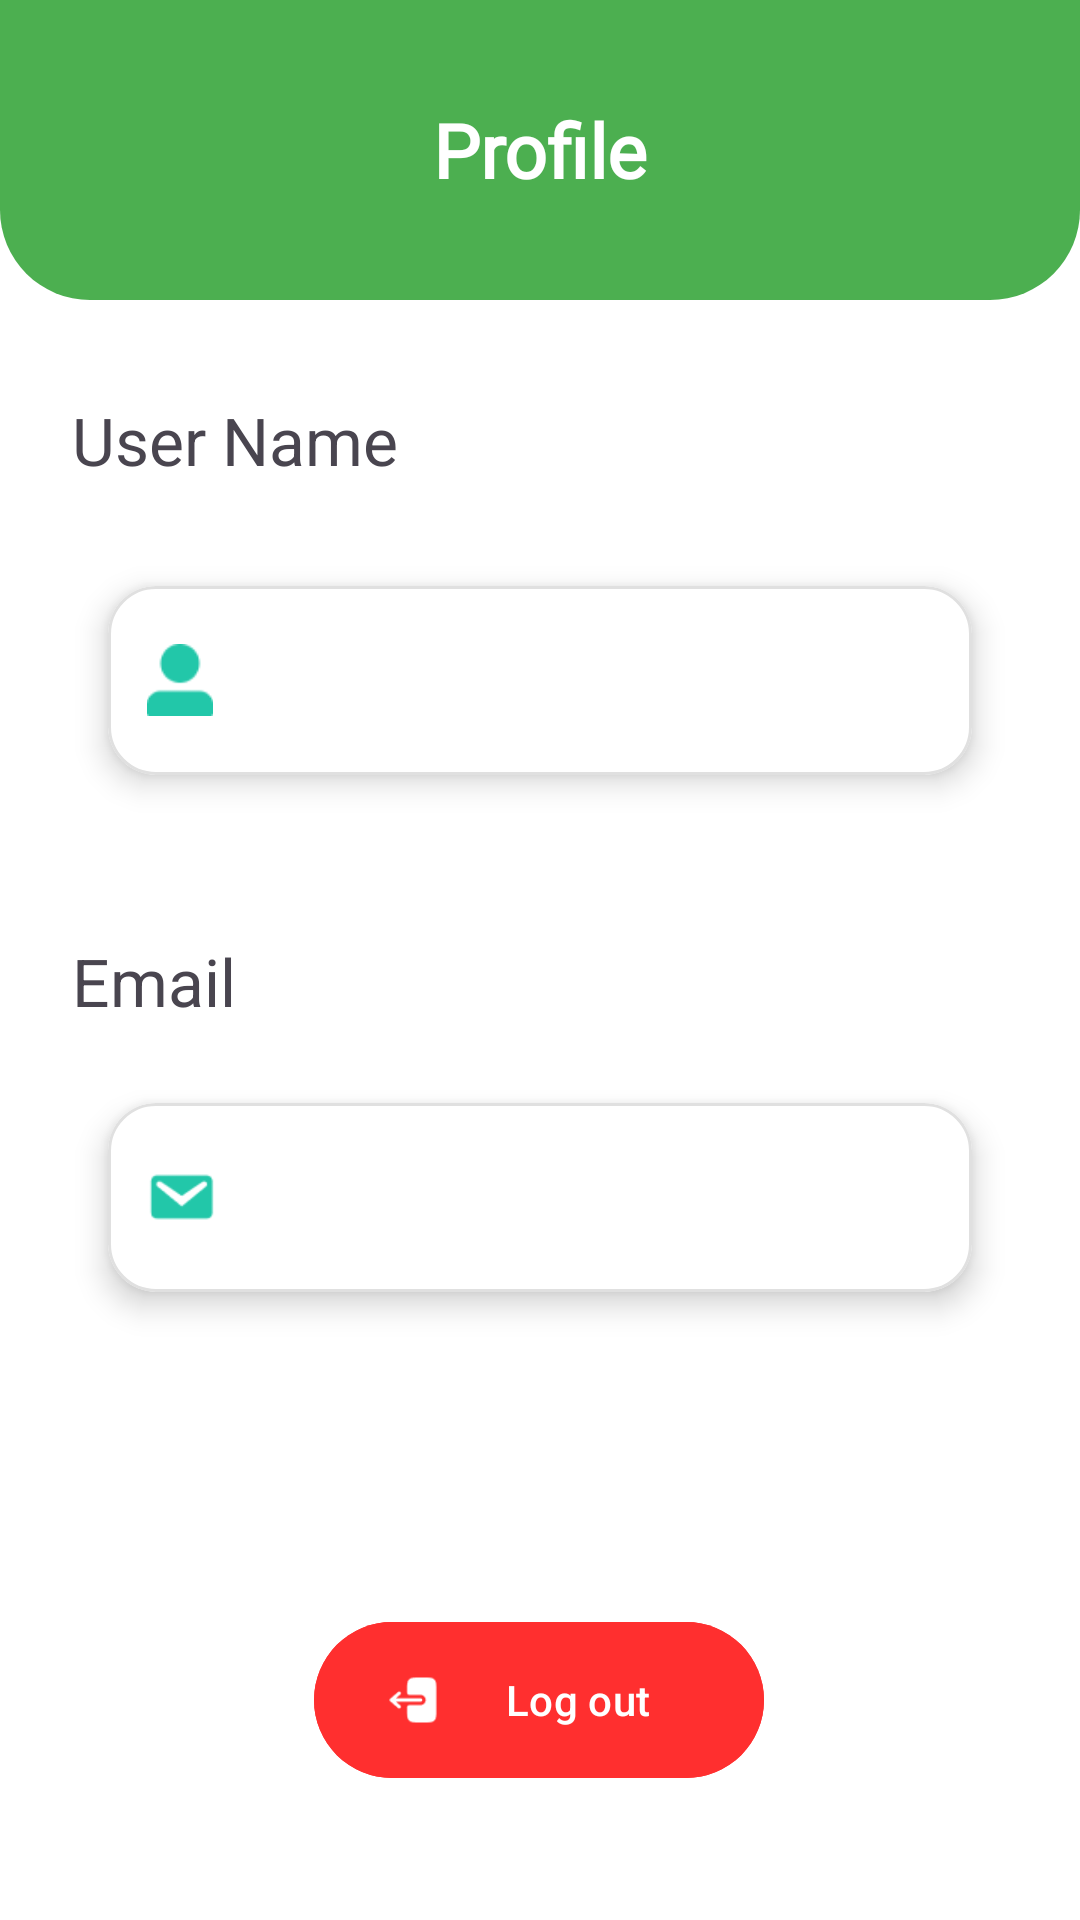

Where to tap for icons on this 1080x1920 app screen, as (x,y):
user: (180,680)
